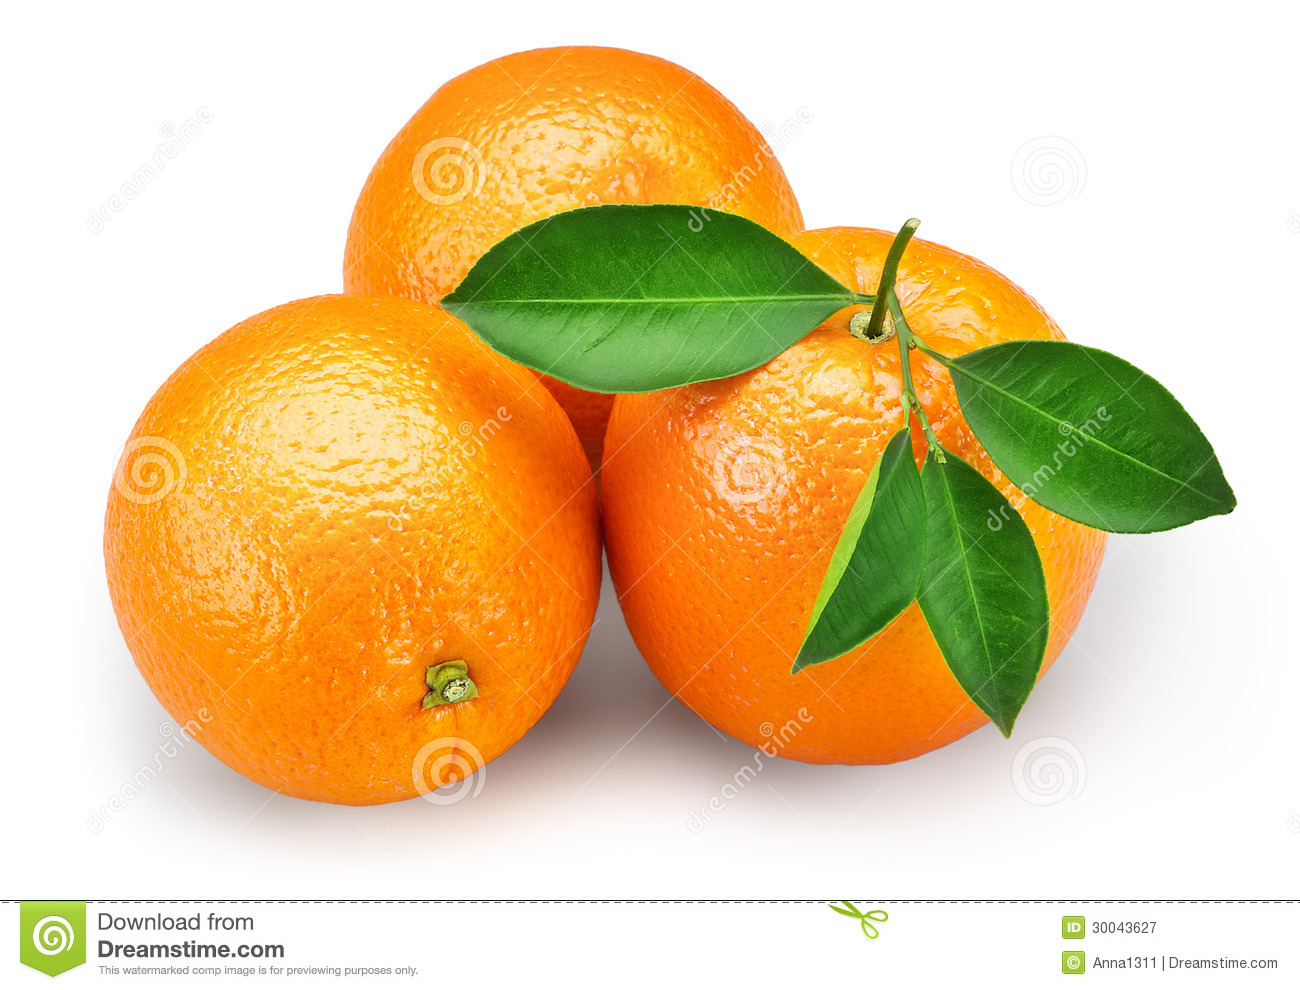orange: (560, 217, 1145, 769), (90, 287, 608, 809), (323, 37, 786, 551)
